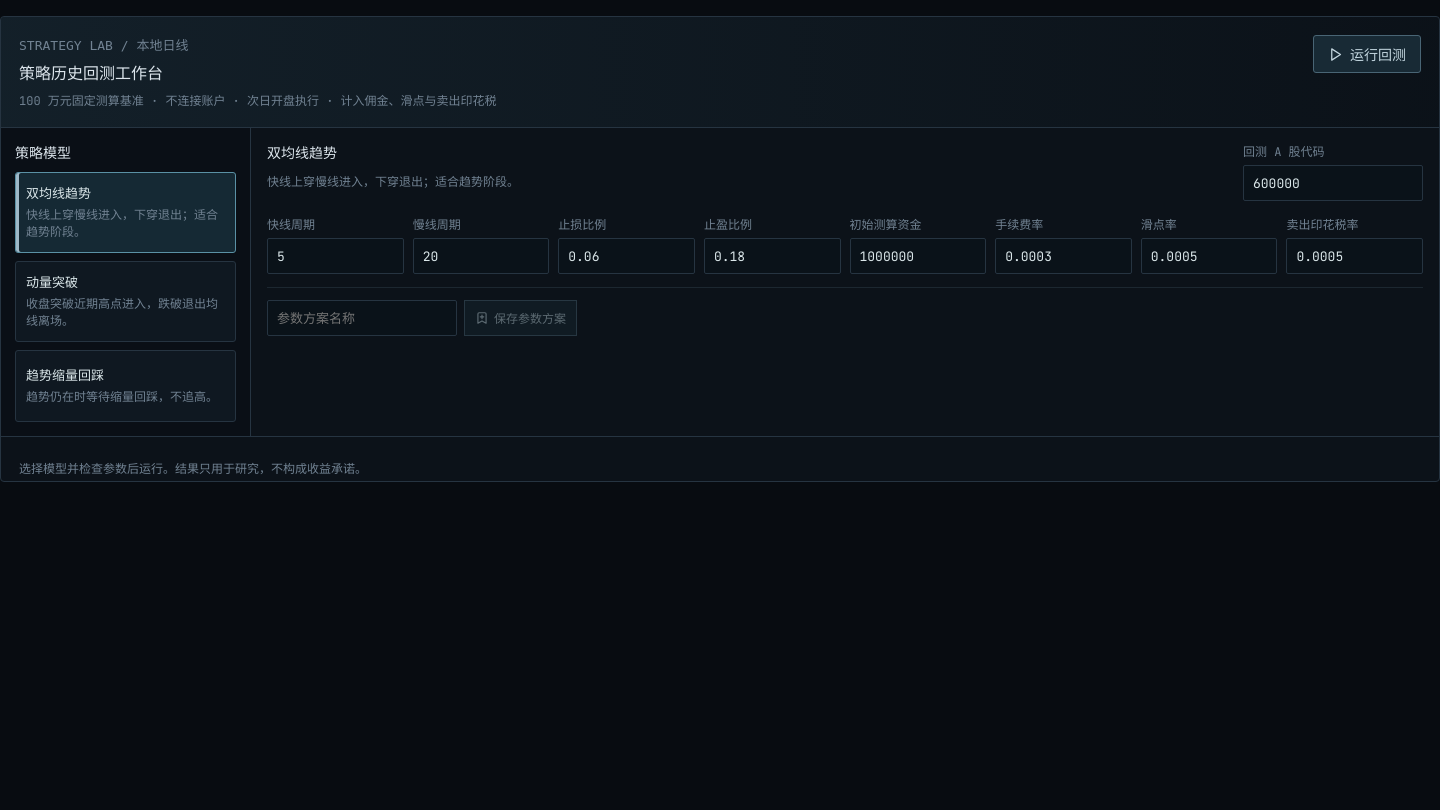
it: BacktestPanel › shows losses, drawdown and costs without positive framing
expect the text "100 万元固定测算基准 · 不连接账户 · 次日开盘执行 · 计入佣金、滑点与卖出印花税" is shown: met, box [19, 91, 497, 109]
Step 1. Click the button "运行回测" → [1367, 54], box [1313, 35, 1421, 73]
(page scrolled)
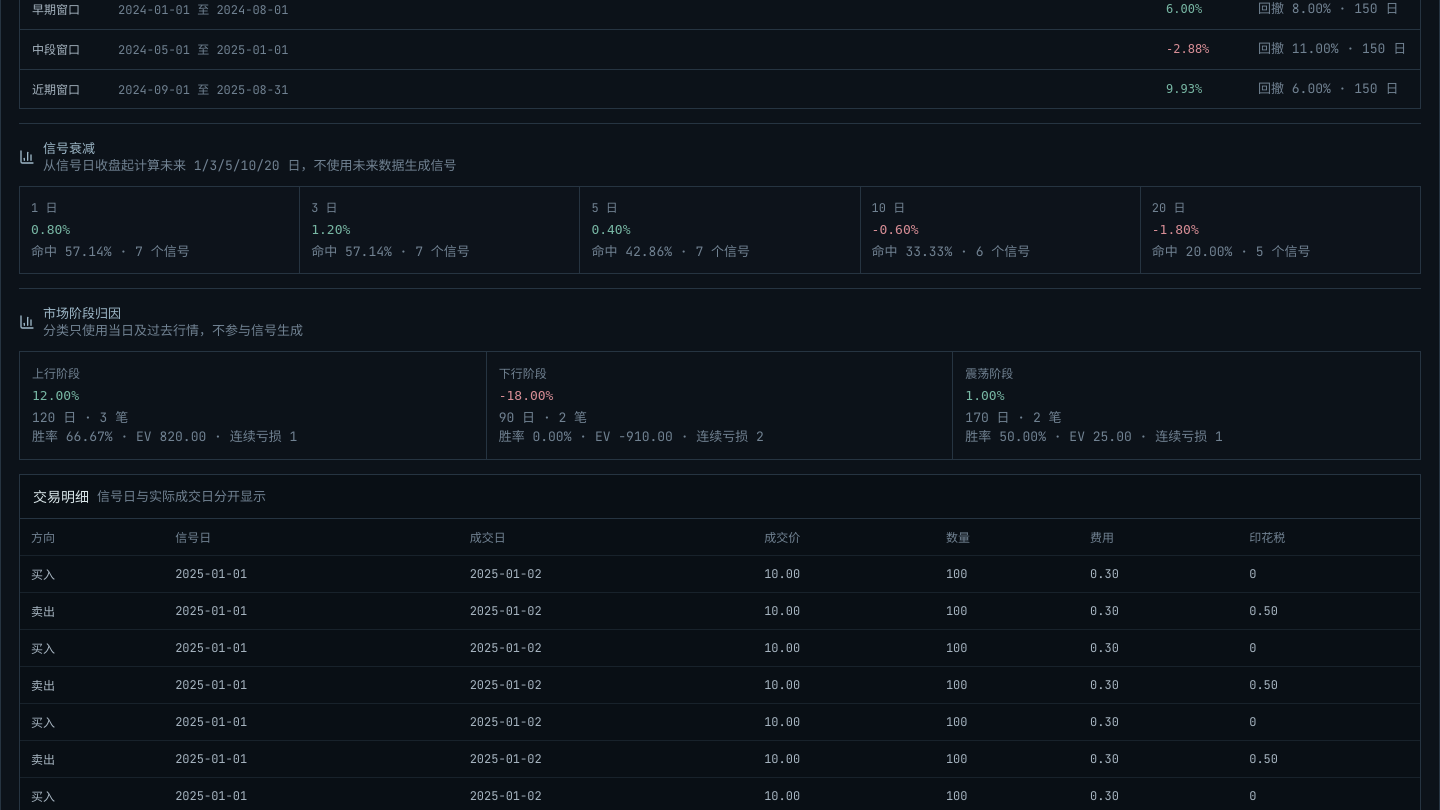
expect the text "下行阶段" is shown: met, box [499, 366, 547, 382]
expect the text "-18.00%" is shown: met, box [499, 388, 554, 403]
expect the text "近期窗口" is shown: met, box [32, 82, 80, 98]
